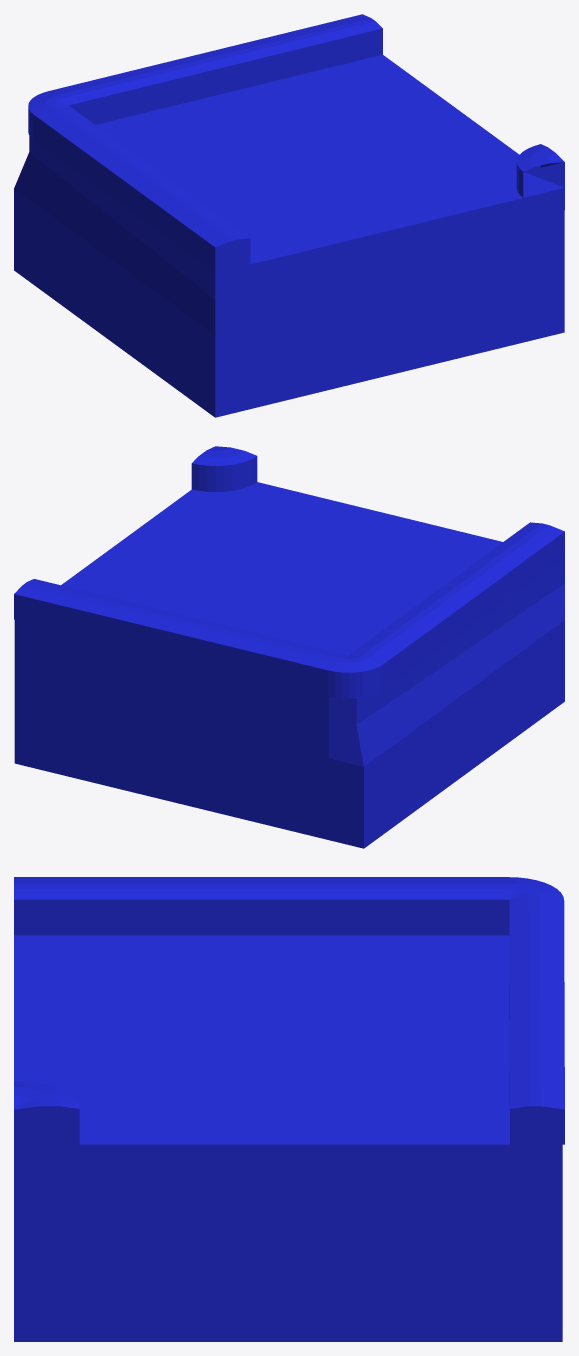
Rendered from ancient_wall_corner.fbx.
The picture shows the model from 3 angles, top to bottom: view 1: azimuth 30°, elevation 25°; view 2: azimuth 150°, elevation 25°; view 3: azimuth 270°, elevation 25°; orthographic projection. The views are drawn at different scales.
Parts seen in each view (by area): view 1: mur.004; view 2: mur.004; view 3: mur.004.
Boxes of the visible parts, x1,y1,x2,y2 form: mur.004: (14, 14, 564, 417); mur.004: (14, 446, 564, 848); mur.004: (14, 877, 564, 1341).
Size of the model in its own units: 1301 by 614 by 1302.
